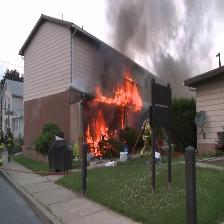fire: (81, 64, 151, 174)
smoke: (88, 0, 224, 91)
